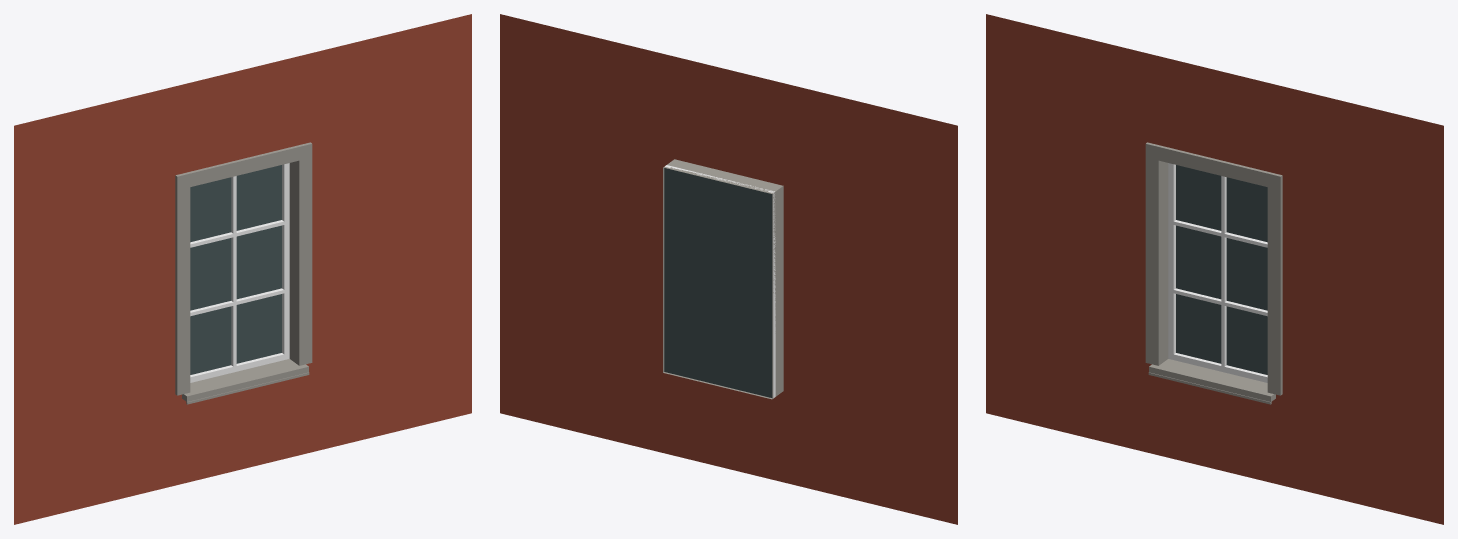
File: mid-w1_close.fbx
The picture shows the model from 3 angles, left to right: view 1: azimuth 30°, elevation 25°; view 2: azimuth 150°, elevation 25°; view 3: azimuth 330°, elevation 25°; orthographic projection.
Parts seen in each view (by area): view 1: a2003/700/mid-w1_close; view 2: a2003/700/mid-w1_close; view 3: a2003/700/mid-w1_close.
Boxes of the visible parts, x1,y1,x2,y2 form: a2003/700/mid-w1_close: (14, 14, 471, 524); a2003/700/mid-w1_close: (500, 14, 957, 524); a2003/700/mid-w1_close: (986, 14, 1443, 524).
Bounding box in the file's own units: 4.2 × 3.5 × 0.265.
